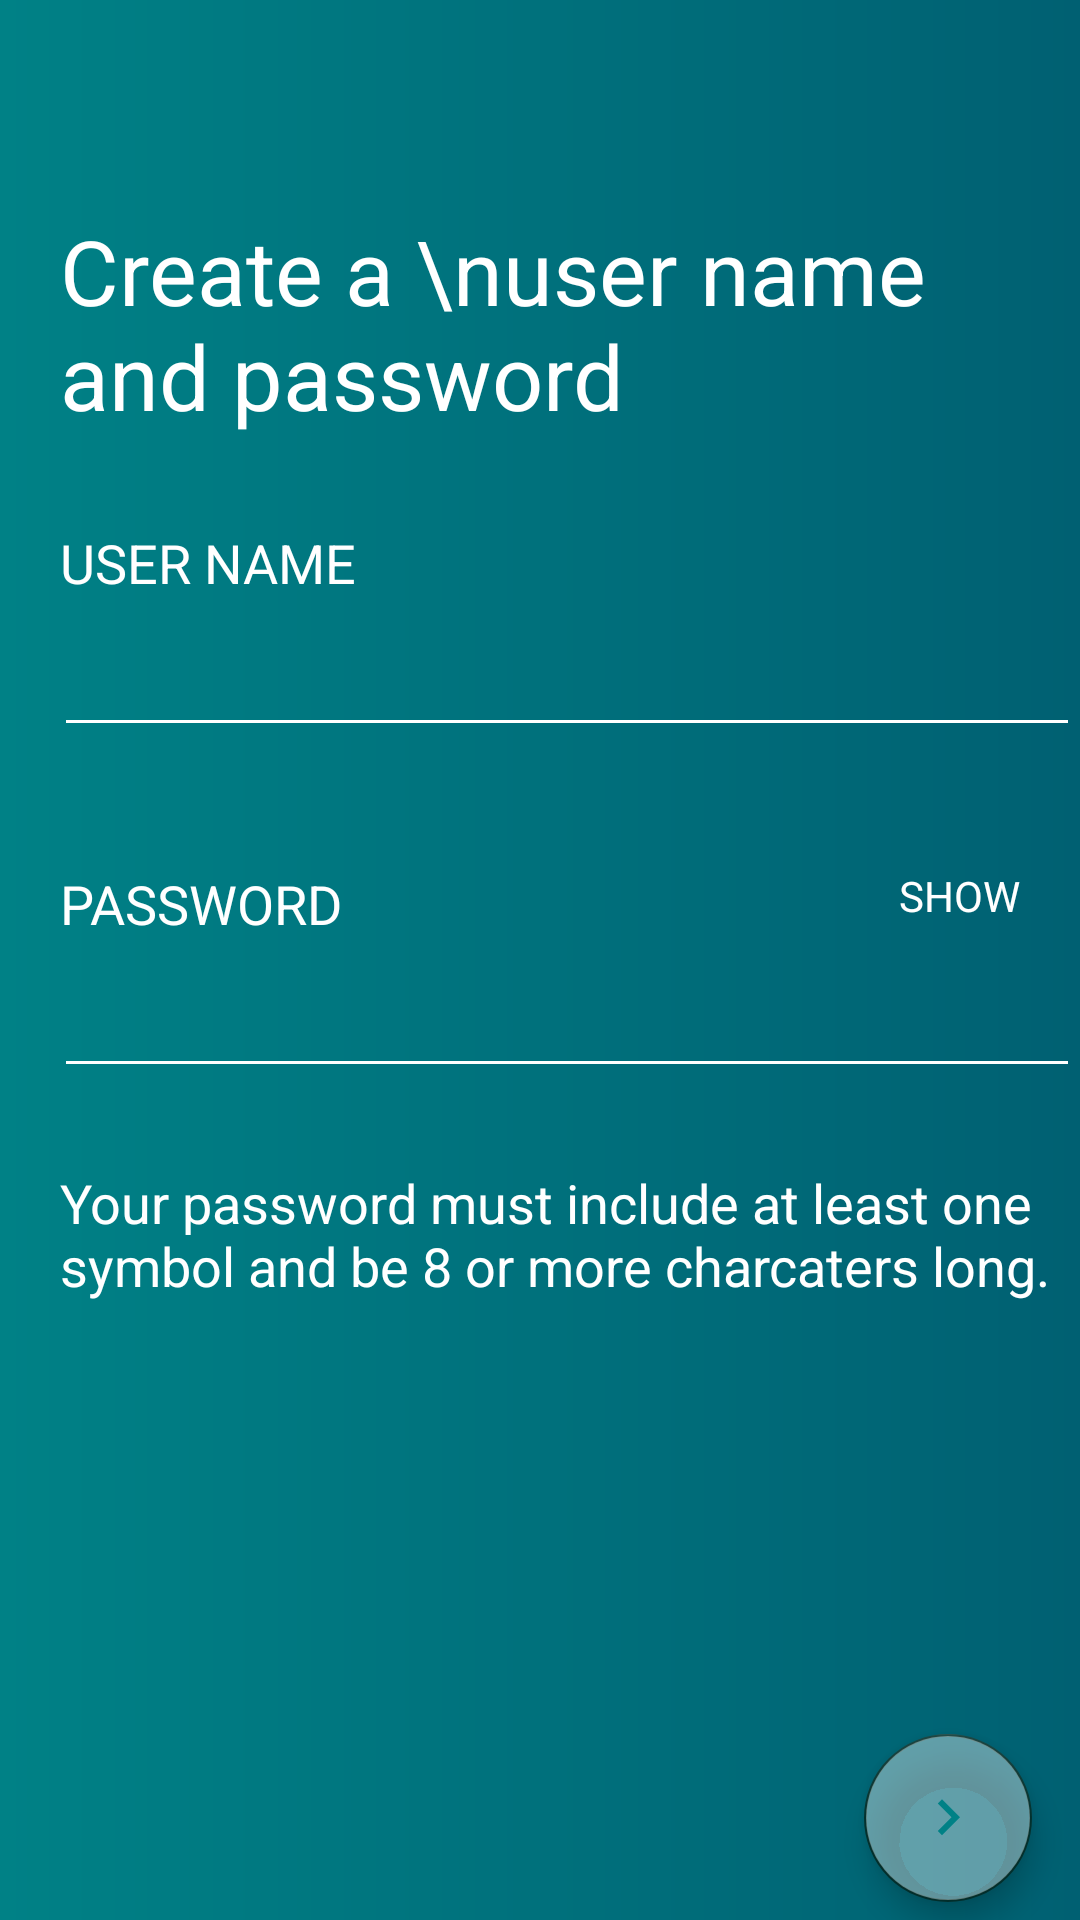

Screen size 1080*1920. Icon name, then its center in pixels as (x=x, y=y):
right arrow: (x=948, y=1818)
